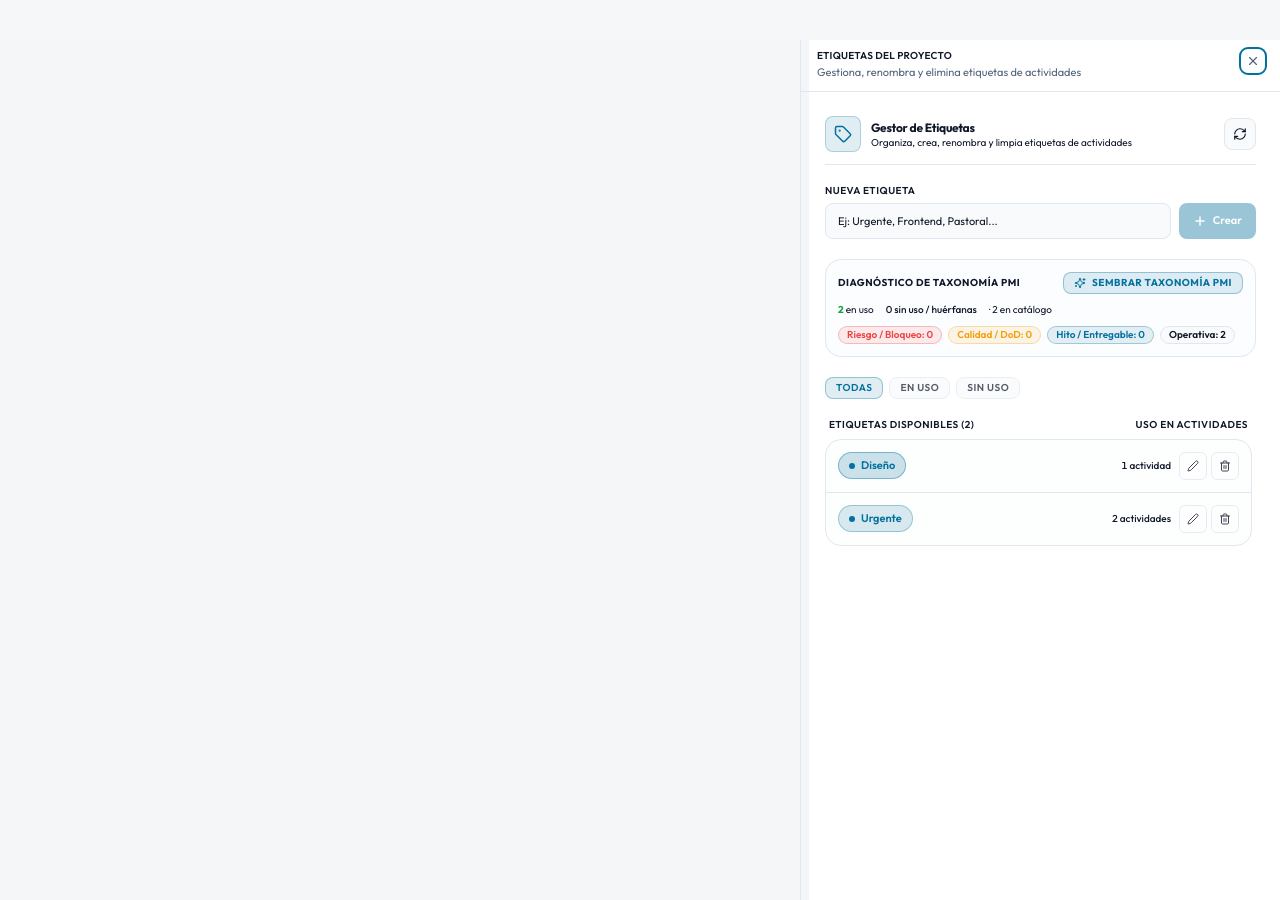
ProjectLabelsDrawer — Gobernanza de Taxonomía PMI › siembra las 4 etiquetas canónicas PMI en 1 clic vía labels-pmi-seed-btn
The image size is (1280, 900).
Expected: the text "Urgente" is shown, left=861, top=510, right=902, bottom=527
Expected: the text "PMI: Hito Crítico" is not shown
What coordinates should you click on to do the following:
click the button with test id "labels-pmi-seed-btn"
I would click on:
 (1153, 282)
Its box is left=1063, top=272, right=1243, bottom=294.
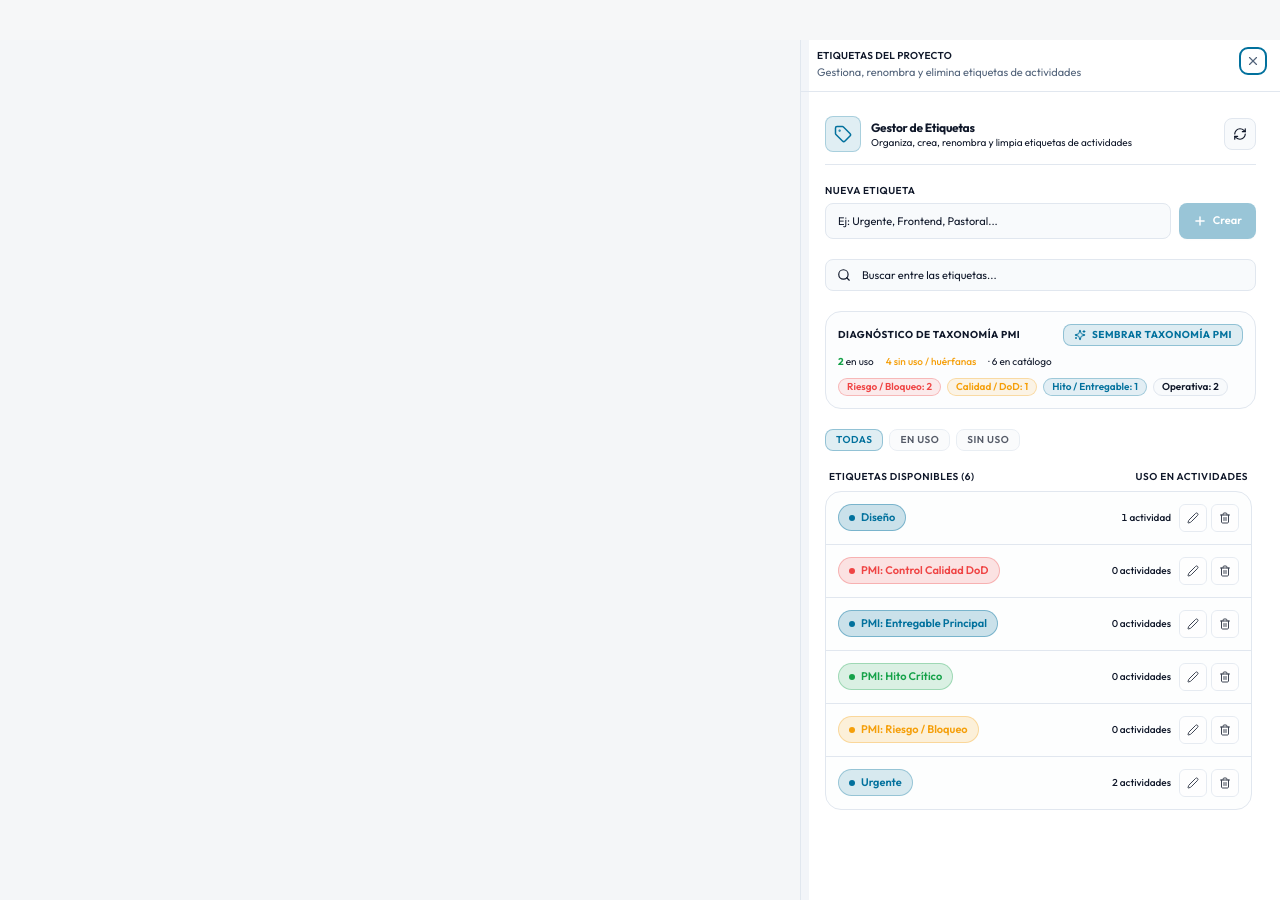
Expected: the text "PMI: Hito Crítico" is shown, left=861, top=668, right=942, bottom=685
Expected: the text "PMI: Control Calidad DoD" is shown, left=861, top=562, right=988, bottom=579
Expected: the text "PMI: Riesgo / Bloqueo" is shown, left=861, top=721, right=968, bottom=738
